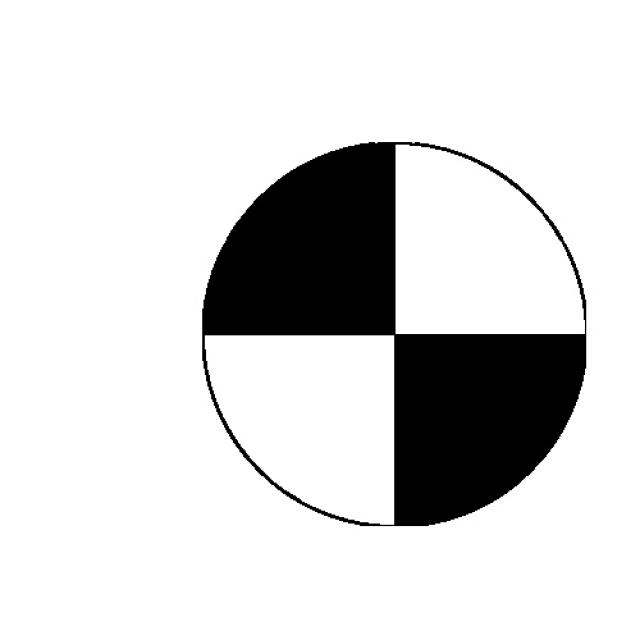Marcadores: (203, 141, 587, 526)
